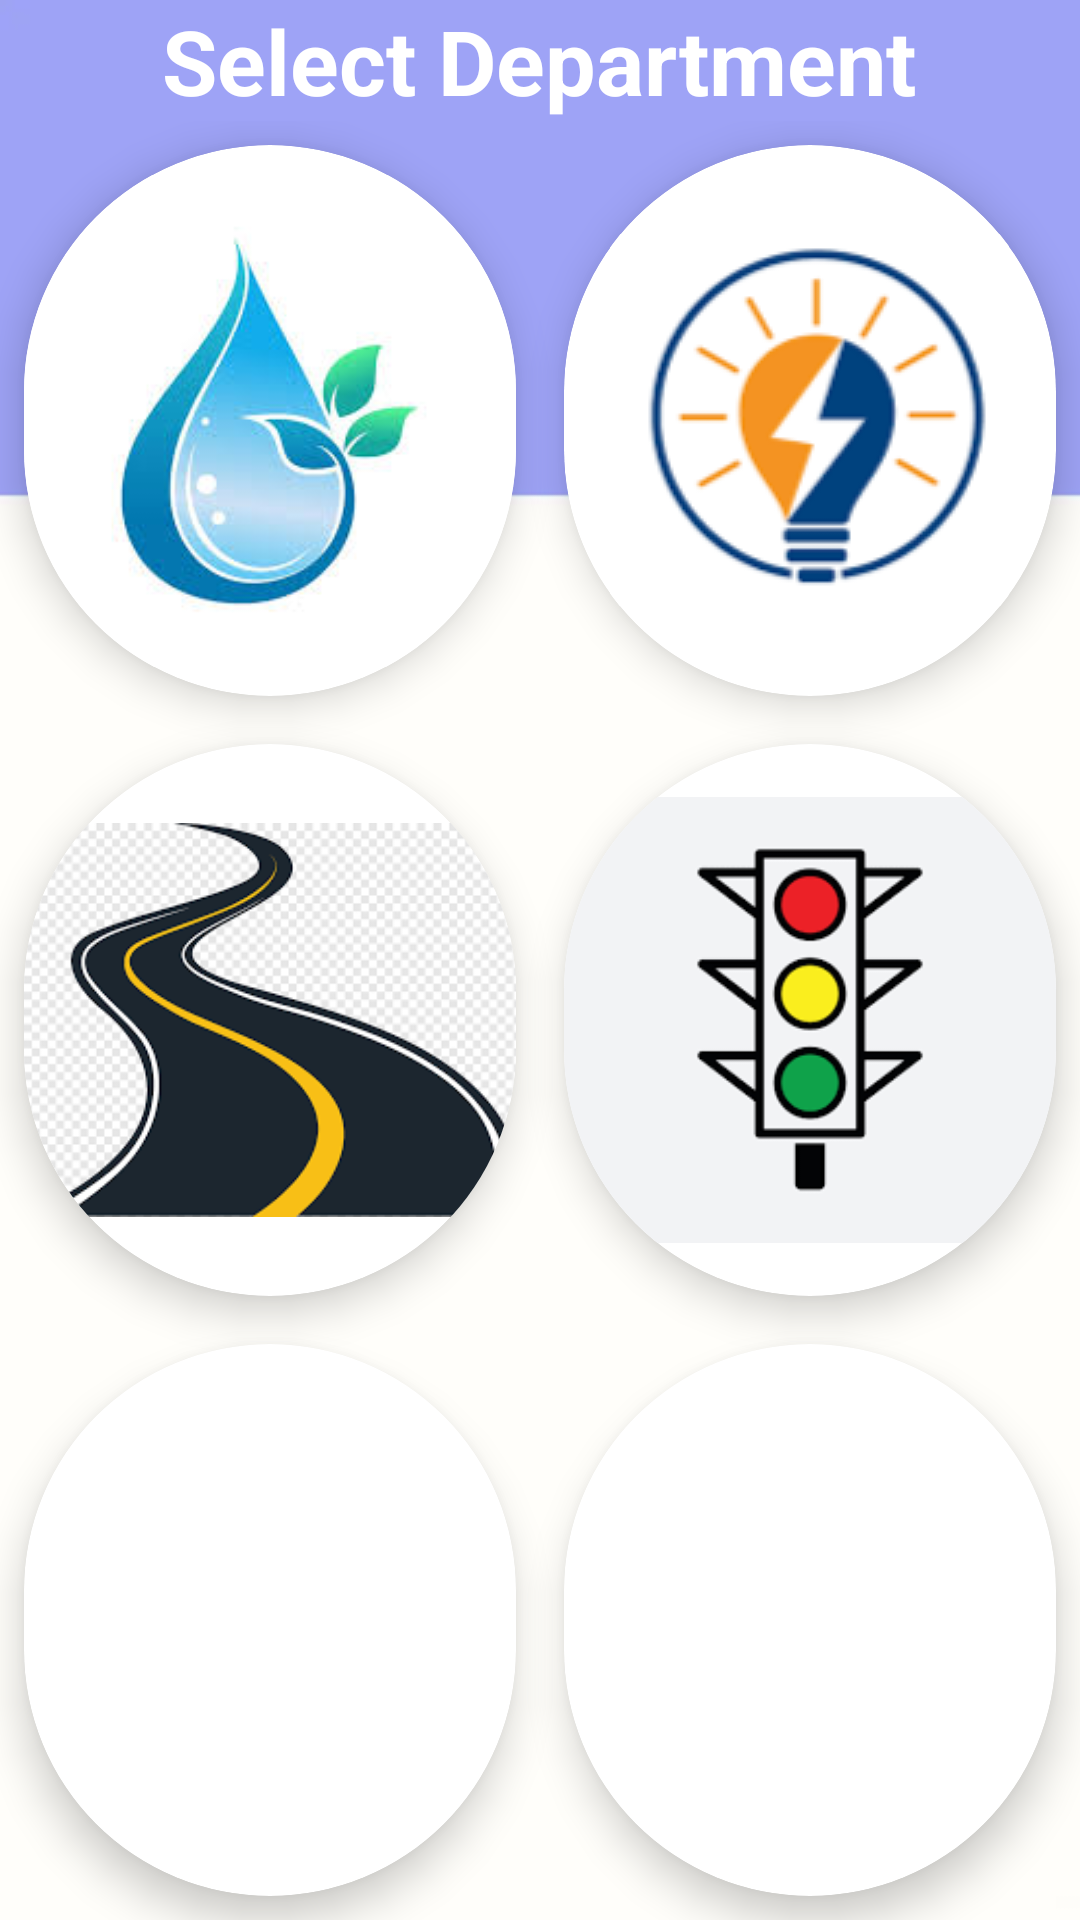

Icon bounding boxes for this 1080x1920 phone screenshot, format box=[x1, y1, x2, y2]:
electricity: box=[649, 248, 986, 584]
